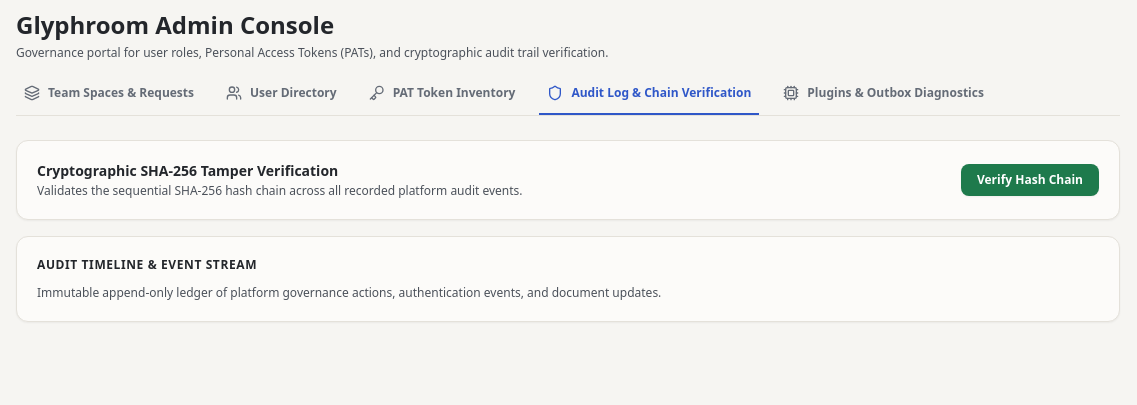
Test: AdminView Component & Cryptographic Hash Chain Verification › Hash Chain Verification — Genuine Success Handling › displays verified block count when valid: true with totalRows is returned
Click the button "Verify Hash Chain". click: (1030, 180)
box: 961,164 -> 1099,196
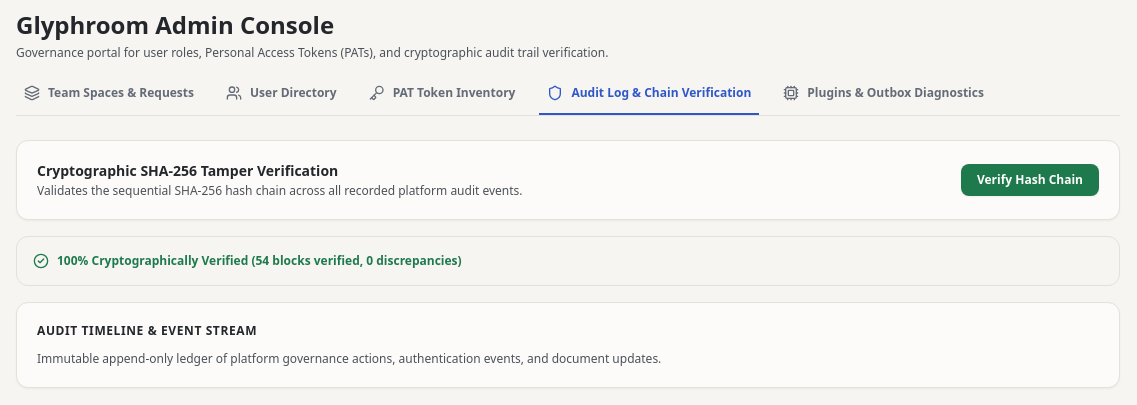
Check: the text "100% Cryptographically Verified (54 blocks verified, 0 discrepancies)" is shown, box 57,253 -> 462,269
